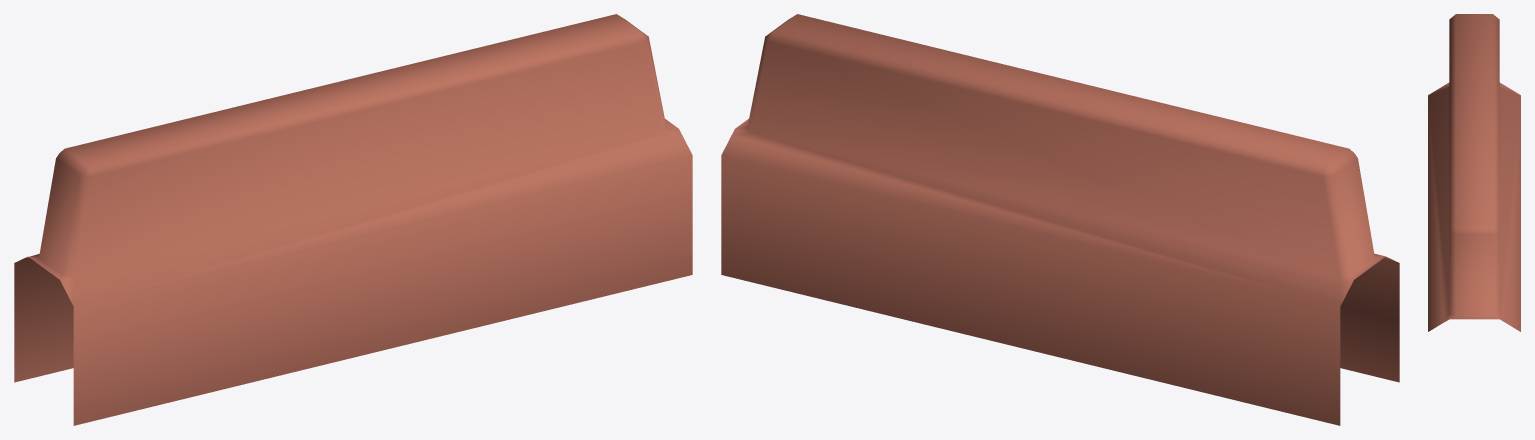
File: SM_barricade_03.fbx
3 views of the same model, side by side, from view 1: azimuth 30°, elevation 25°; view 2: azimuth 150°, elevation 25°; view 3: azimuth 270°, elevation 25° (orthographic). The views are drawn at different scales.
Visible parts, largest first — view 1: barricade_01; view 2: barricade_01; view 3: barricade_01.
Boxes of the visible parts, x1,y1,x2,y2 form: barricade_01: (14,14,692,425); barricade_01: (721,14,1399,425); barricade_01: (1428,14,1520,331).
Size of the model in its own units: 468 by 173 by 77.68.
